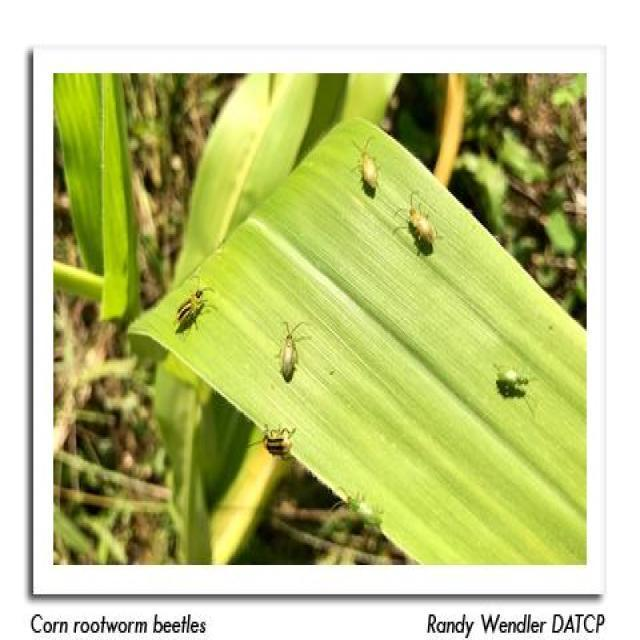gusano_gris: (399, 193, 443, 246), (279, 319, 304, 384), (355, 135, 384, 188), (494, 365, 534, 390)
trips: (174, 274, 213, 338), (244, 419, 298, 462)
